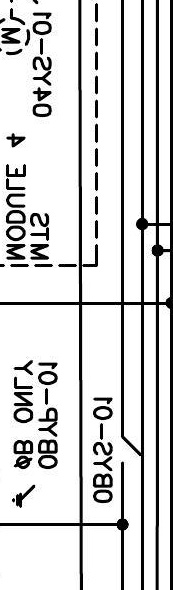115_ds: (120, 436, 141, 466)
